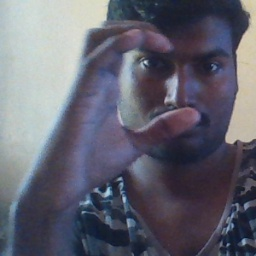C: (79, 10, 202, 157)
